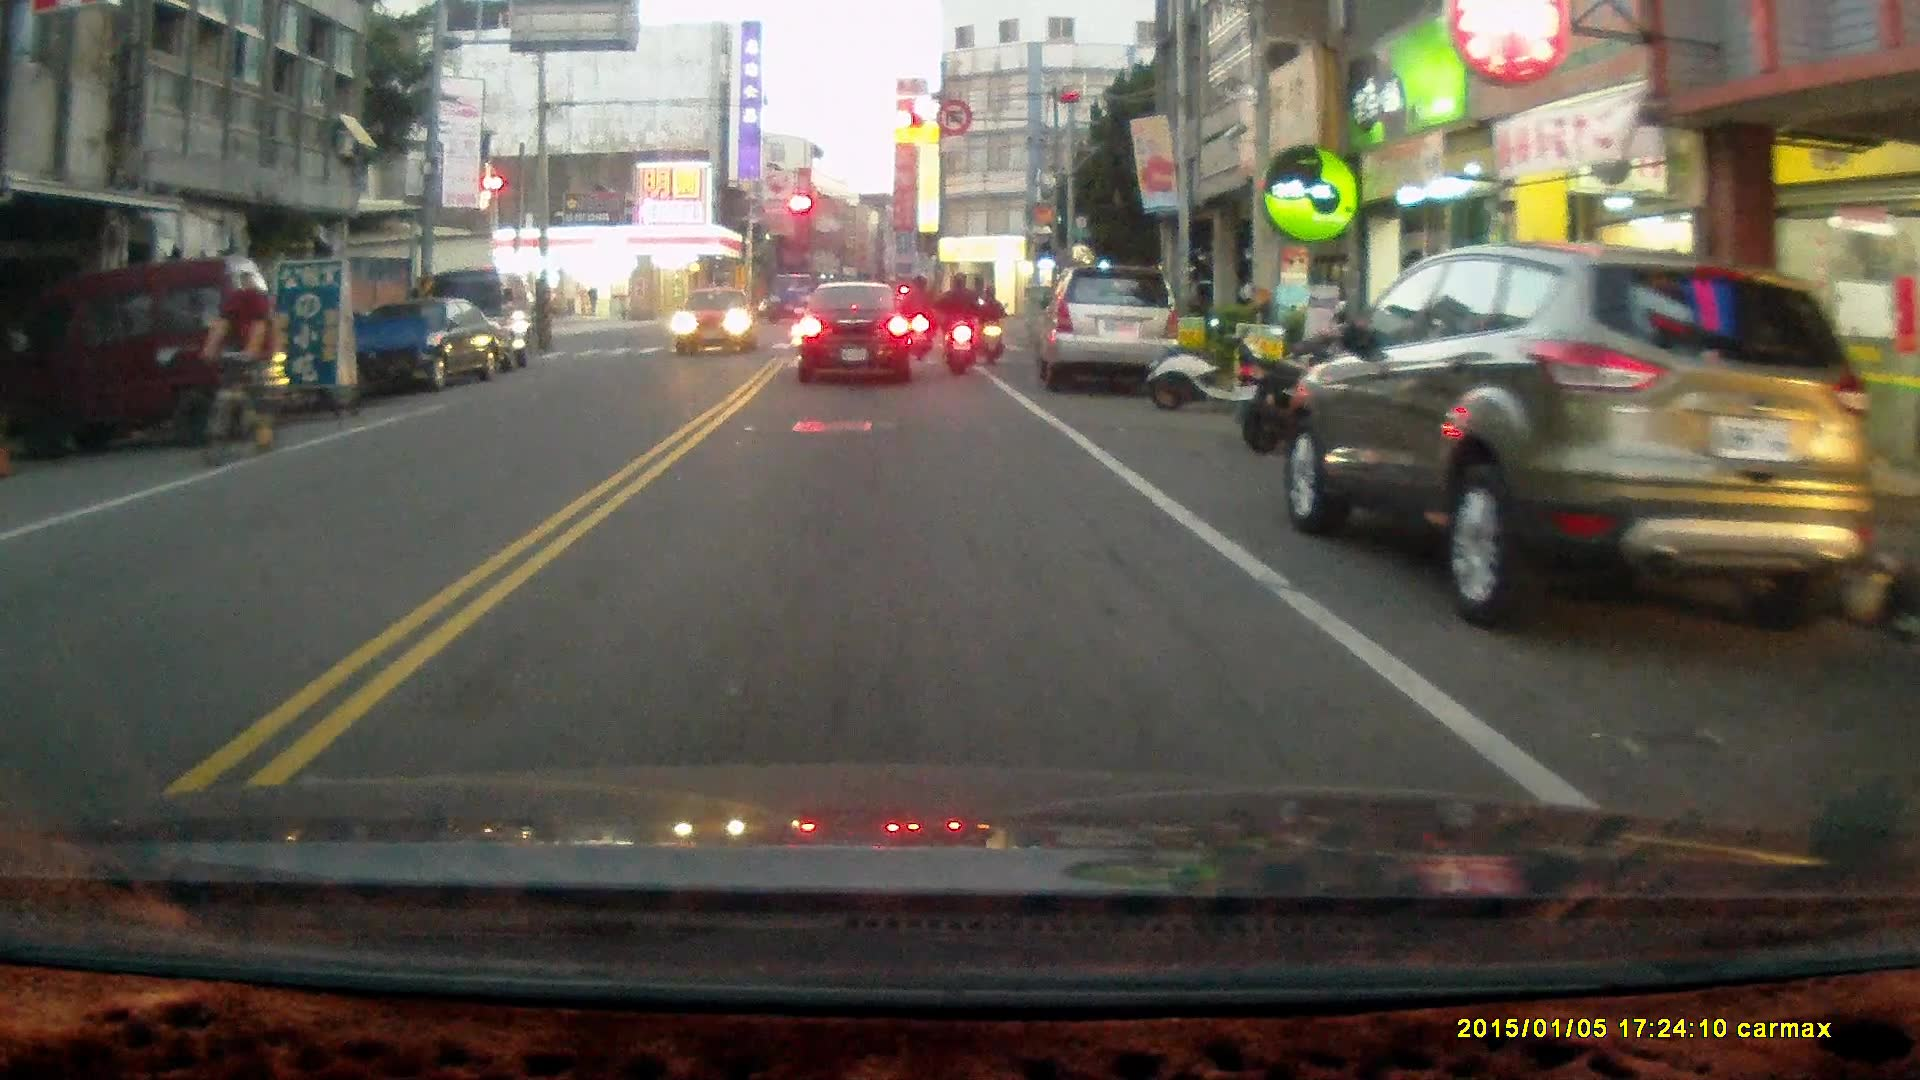rider: (193, 259, 284, 472), (936, 271, 985, 377), (899, 273, 935, 364), (976, 282, 1007, 365)
vehicle: (1290, 240, 1875, 631), (6, 258, 290, 453), (1035, 265, 1185, 399), (351, 296, 507, 395), (801, 281, 920, 389), (678, 285, 761, 357)
